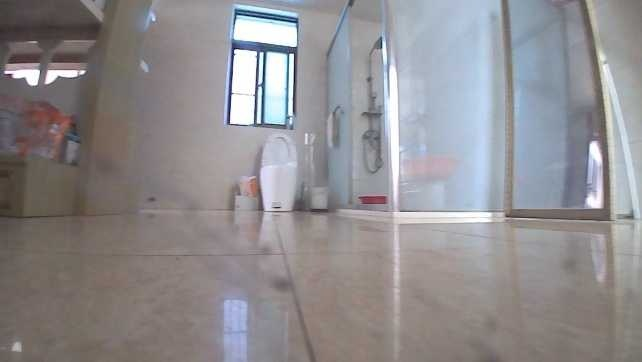toilet: (256, 130, 301, 213)
